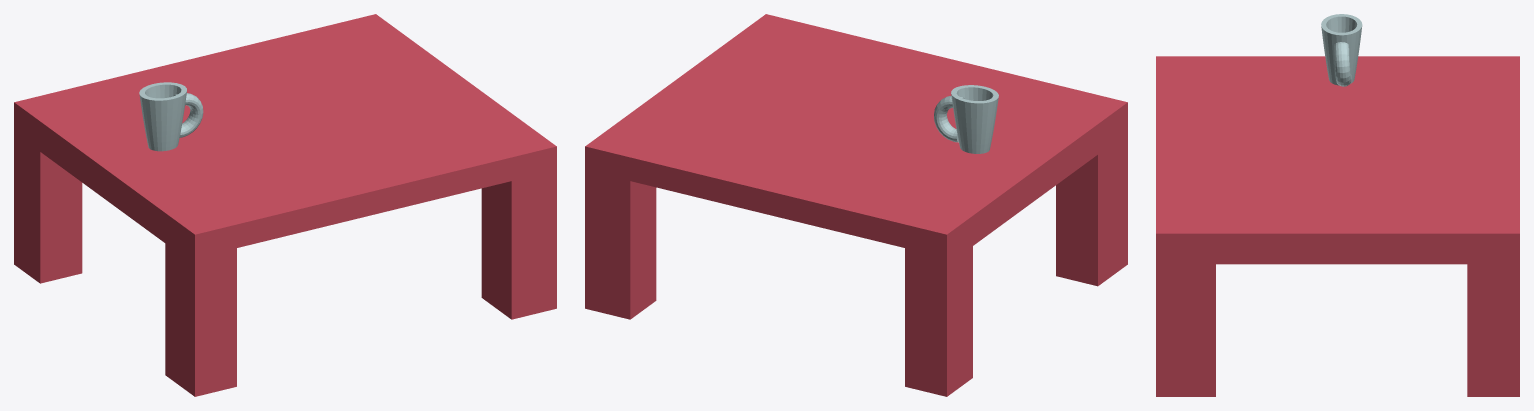
File: Table and Ball.glb
3 renders of one model, left to right at view 1: azimuth 30°, elevation 25°; view 2: azimuth 150°, elevation 25°; view 3: azimuth 270°, elevation 25°, orthographic.
Visible parts, largest first — view 1: Mesh_Mesh_head_geo.001_lambert2SG.001; view 2: Mesh_Mesh_head_geo.001_lambert2SG.001; view 3: Mesh_Mesh_head_geo.001_lambert2SG.001.
Part boxes in pixels (box(x1,y1,x2,y2)): Mesh_Mesh_head_geo.001_lambert2SG.001: box(14, 14, 556, 396); Mesh_Mesh_head_geo.001_lambert2SG.001: box(585, 14, 1127, 396); Mesh_Mesh_head_geo.001_lambert2SG.001: box(1156, 14, 1519, 396).
Size of the model in its own units: 112 by 66 by 97.
